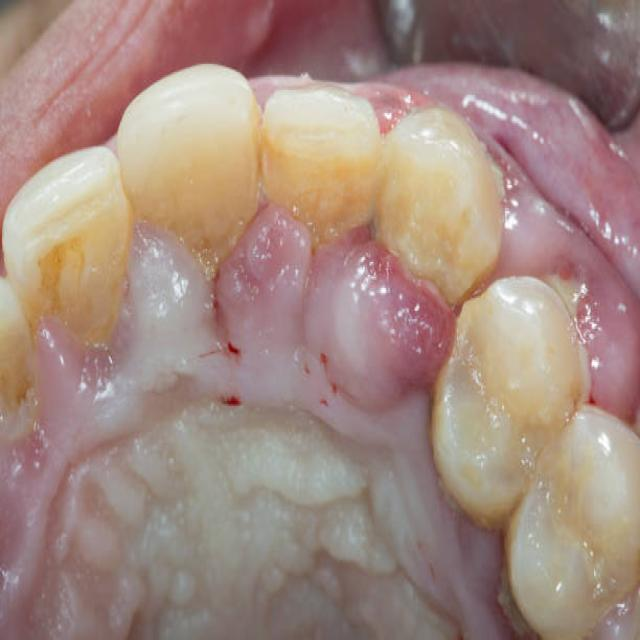Gingivitis: (215, 207, 308, 338), (344, 247, 436, 378)
